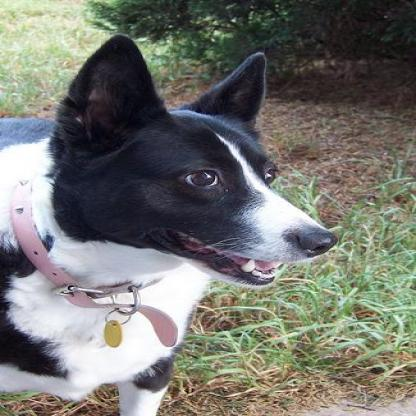kelpie: (0, 35, 335, 413)
